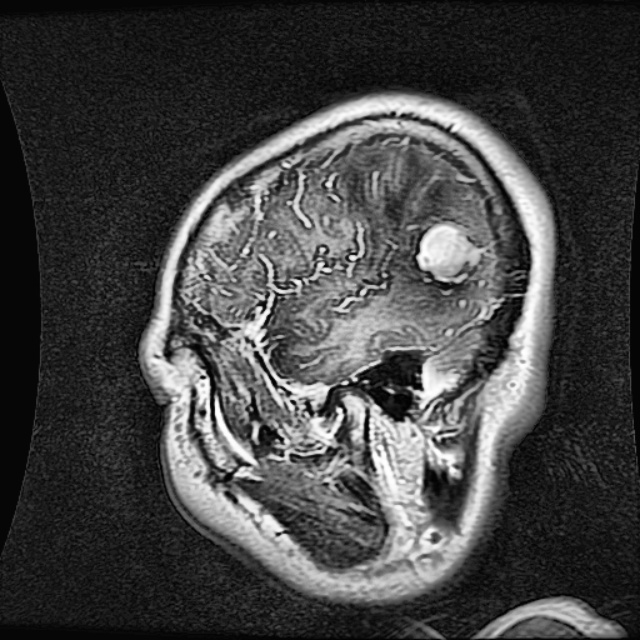Meningioma: (417, 223, 483, 284)
